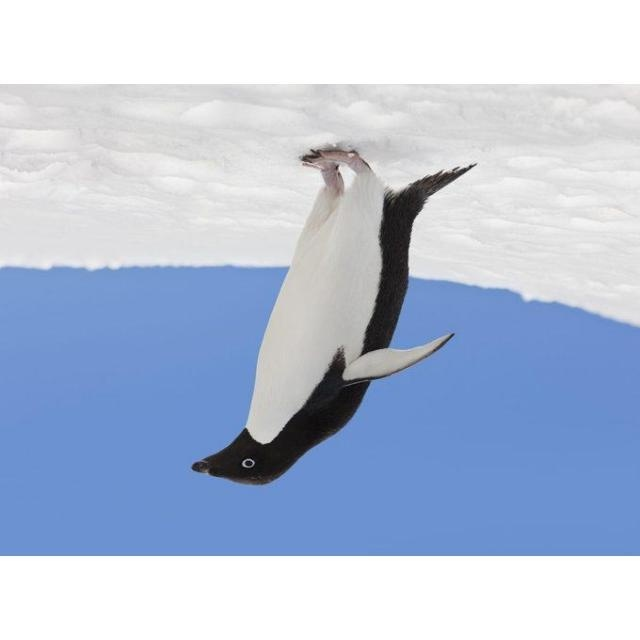penguin: (193, 145, 478, 485)
